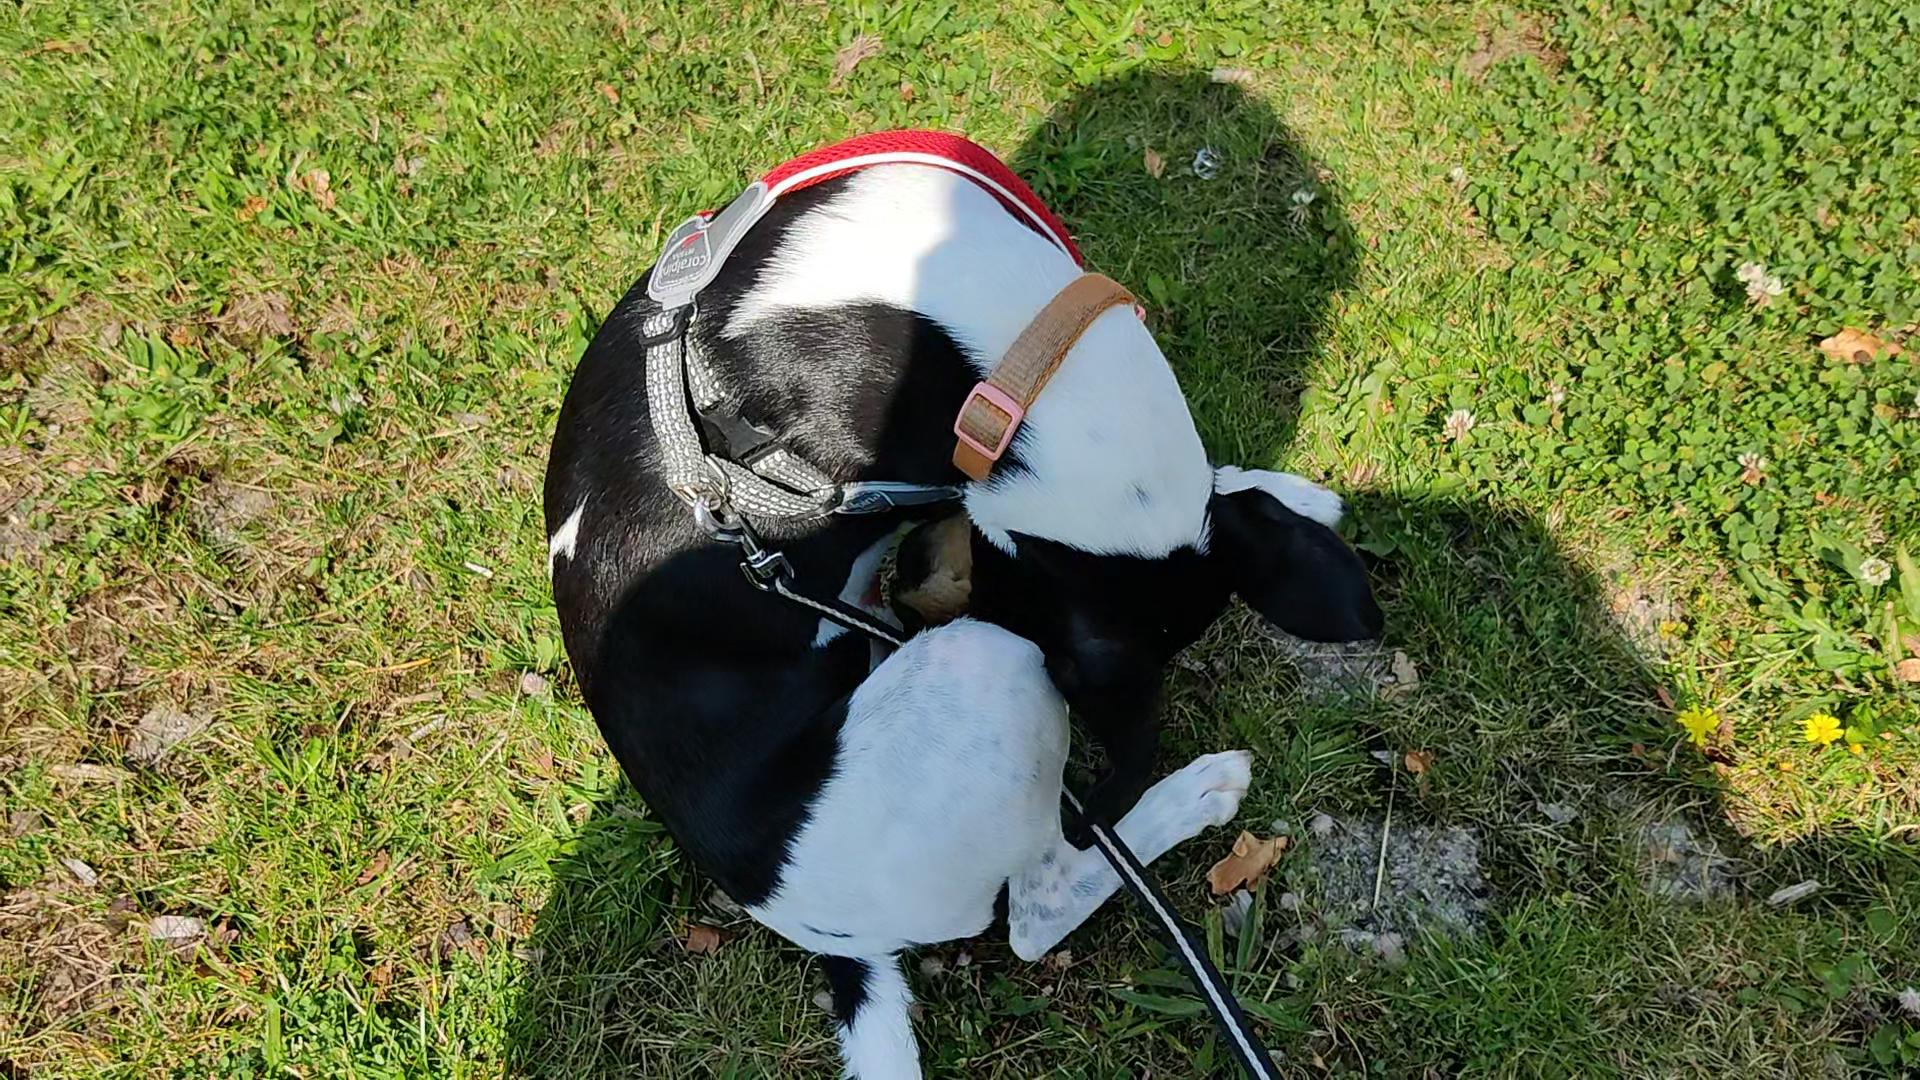Dog: (488, 102, 1447, 1079)
